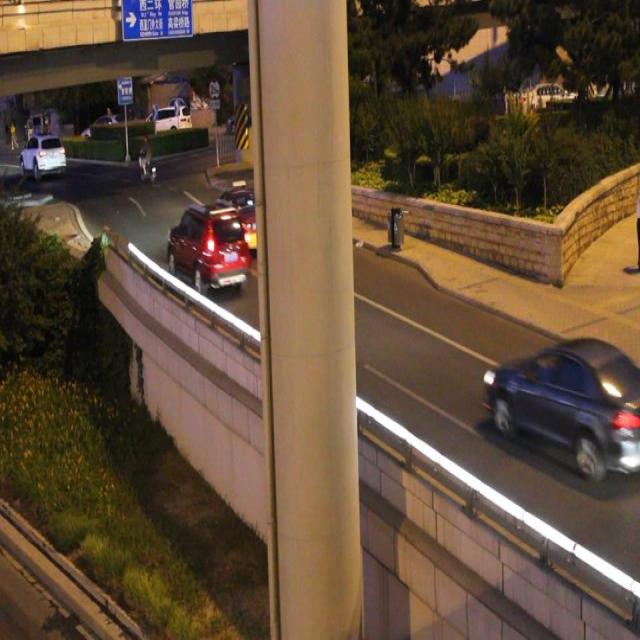car: (484, 337, 640, 478), (167, 201, 250, 291), (203, 179, 267, 252)
